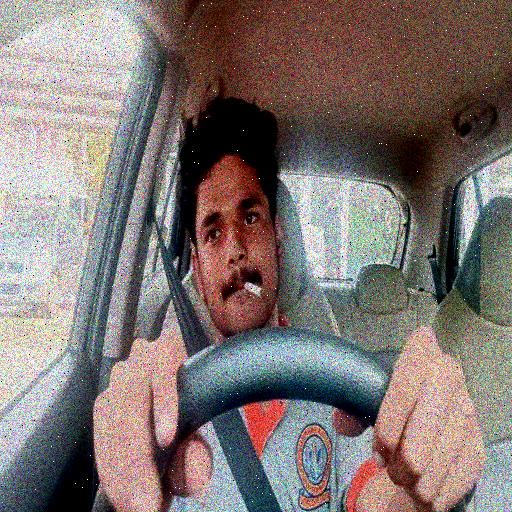Smoking: (94, 94, 488, 512)
